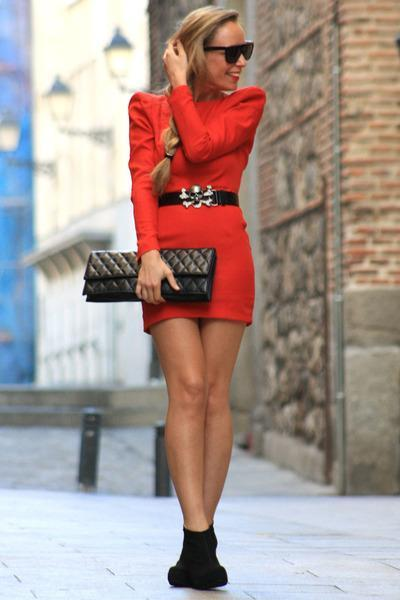bag: (84, 247, 216, 307)
dress: (128, 86, 265, 335)
shoe: (168, 522, 229, 590)
sunglass: (204, 43, 252, 64)
